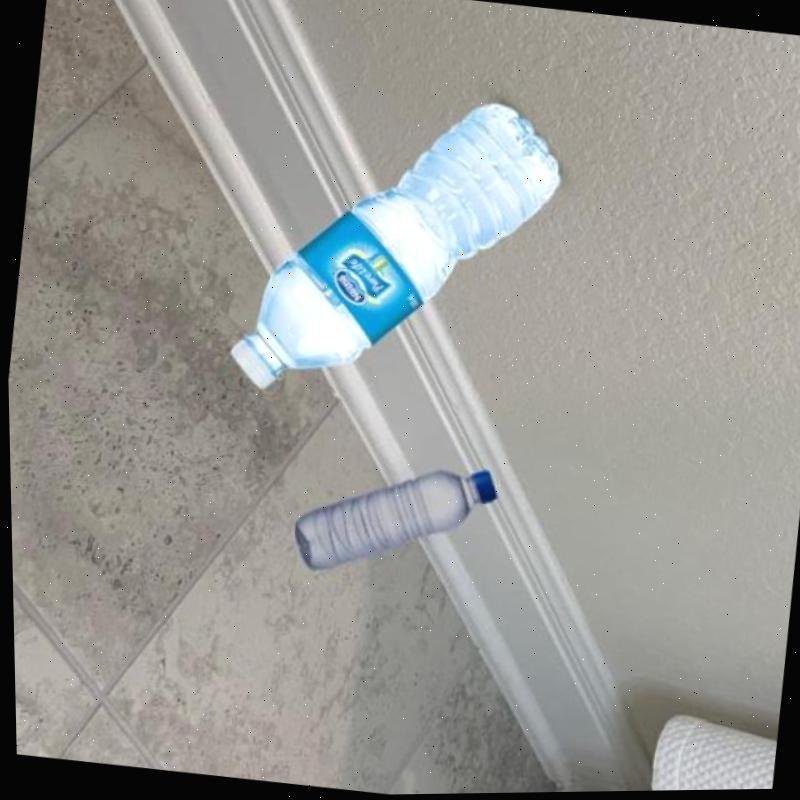botella: (219, 66, 577, 422), (284, 444, 502, 594)
